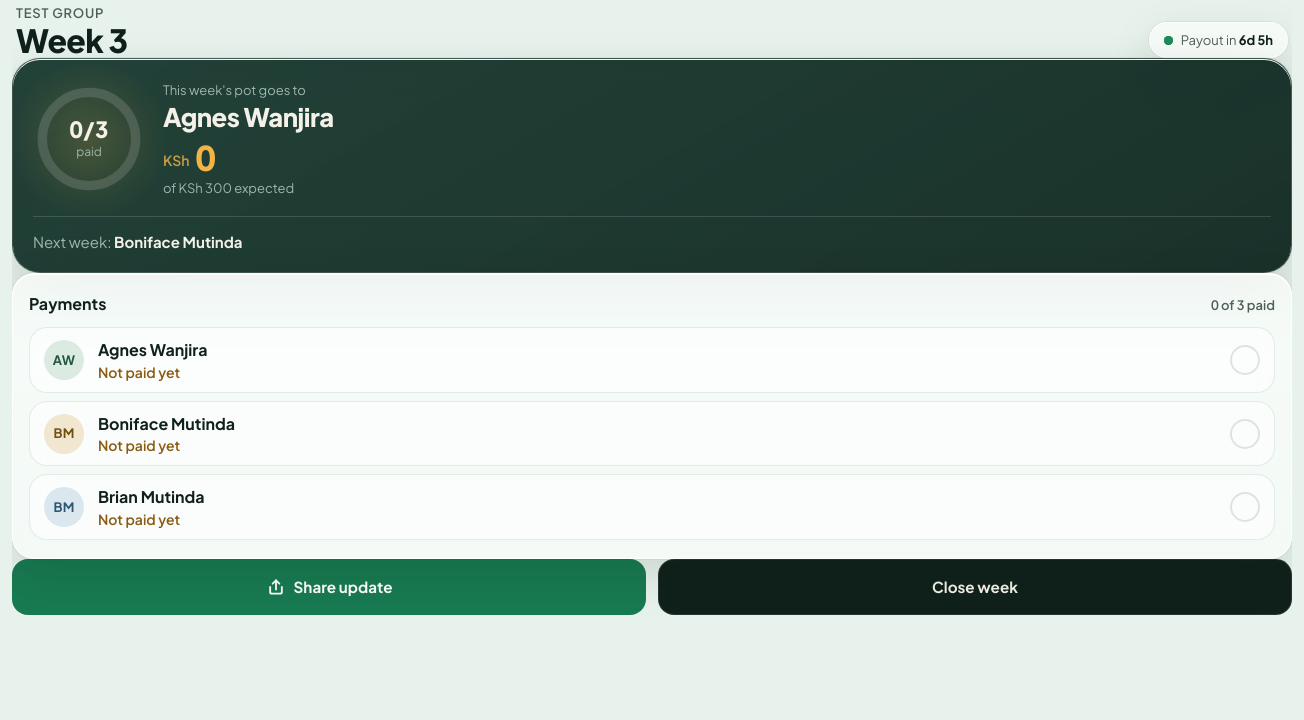
RoundLive optimistic updates › rolls back and explains when the request itself fails (network error)
Click the button with class "toggle" that starts with "Boniface Mutinda" at (64, 434), box [29,401,1275,466]
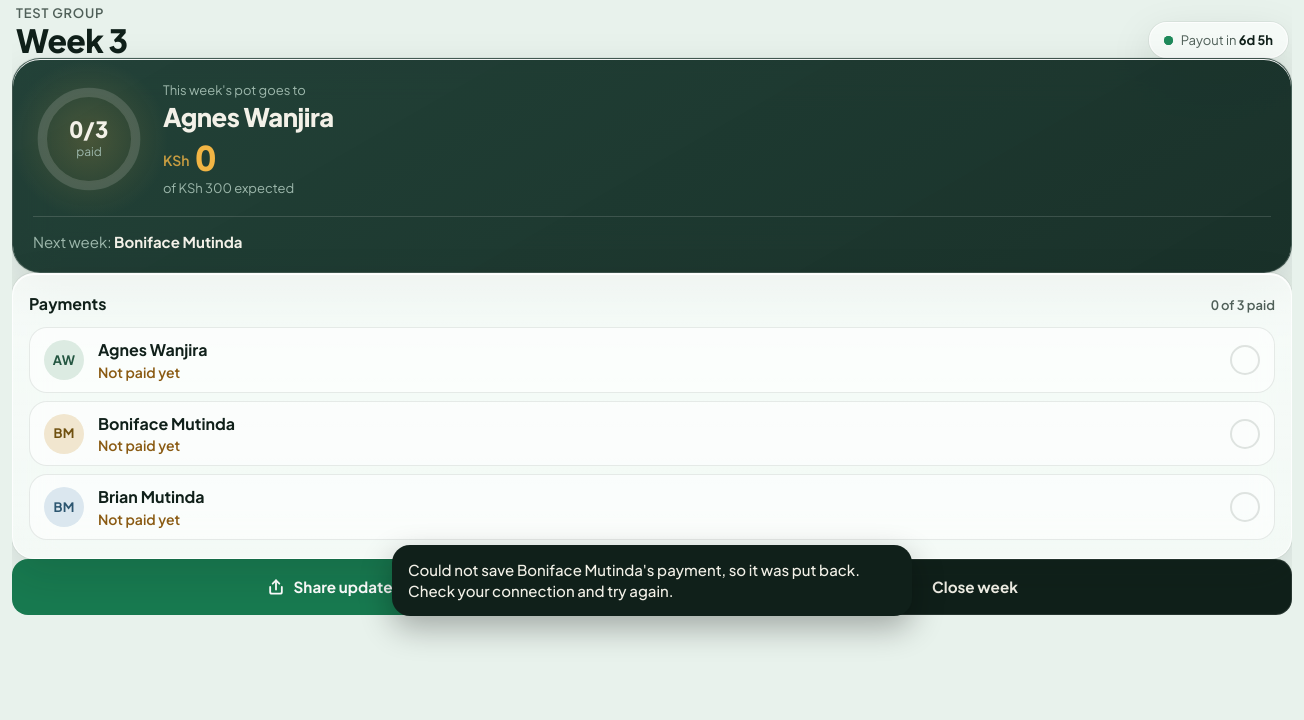
Expected: the message with class "toast" shows "Could not save Boniface Mutinda's payment", [392,544,912,616]
Expected: the message with class "toast" shows "connection", [392,544,912,616]
